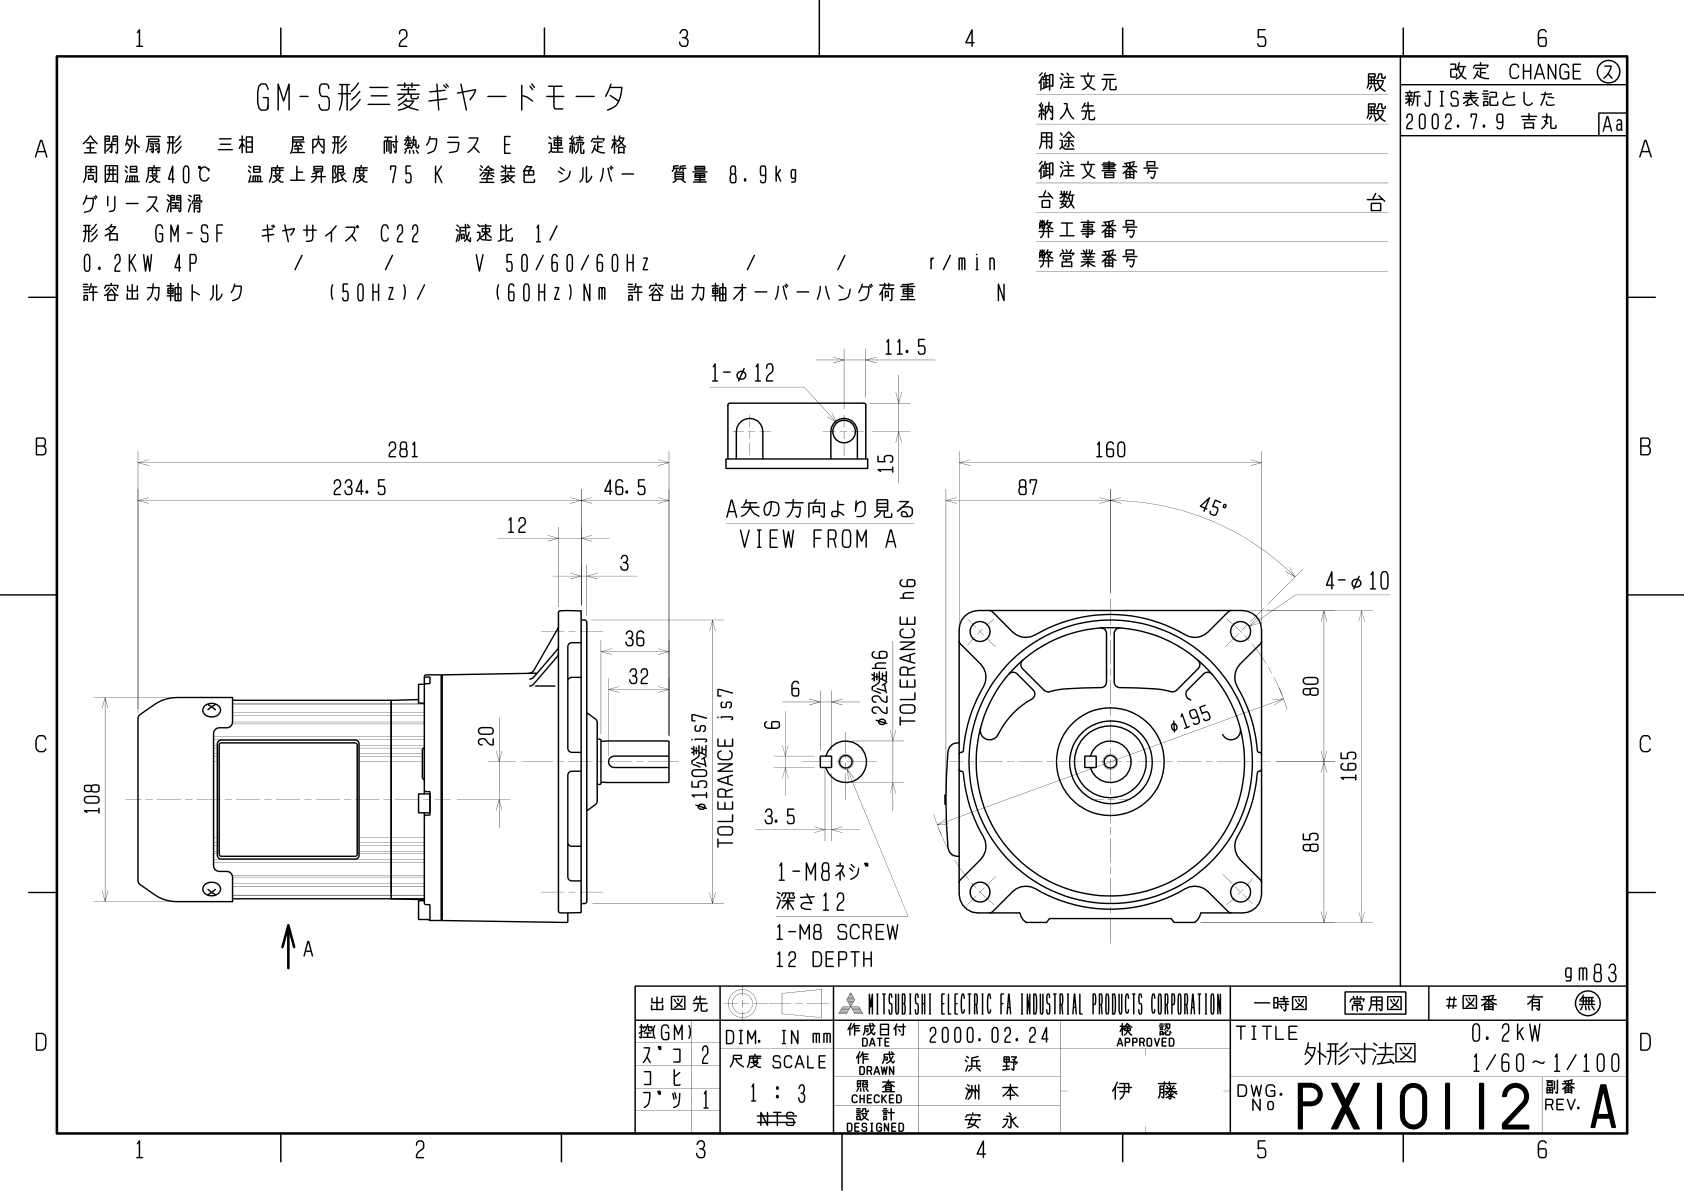GM_S_屋内＿三相_フランジ: (1, 3, 1684, 1191)
